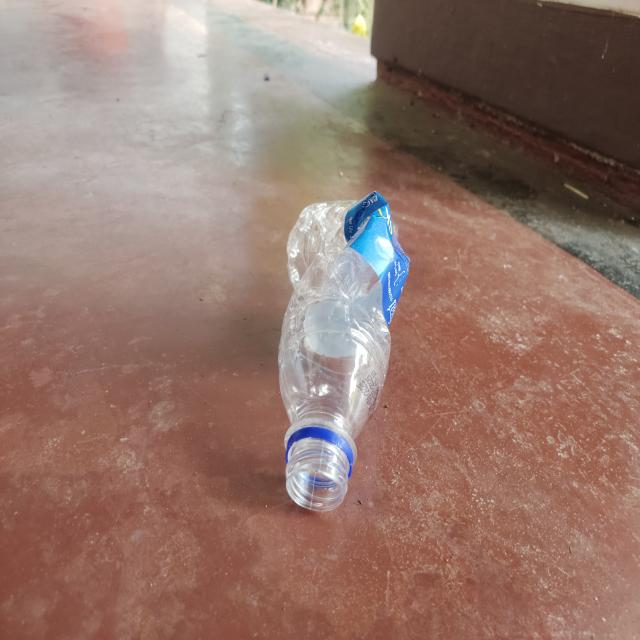plastic: (278, 192, 412, 516)
